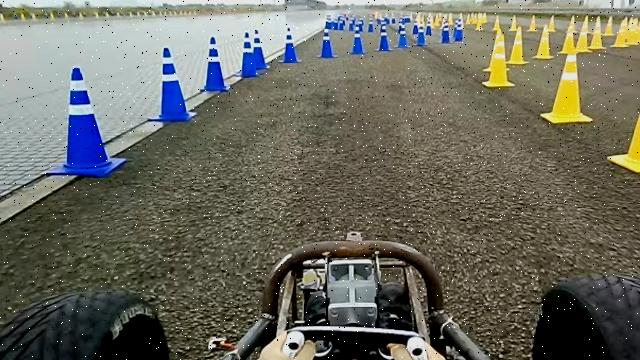blue cone: (44, 66, 126, 177), (147, 47, 197, 122), (200, 36, 230, 92), (278, 26, 302, 63), (315, 28, 338, 58), (348, 24, 367, 55), (375, 22, 393, 52), (396, 23, 410, 48), (415, 22, 427, 46), (440, 21, 452, 43)
yellow cone: (540, 52, 593, 124), (607, 61, 640, 173), (506, 26, 528, 65), (532, 25, 554, 60), (603, 16, 614, 36)
